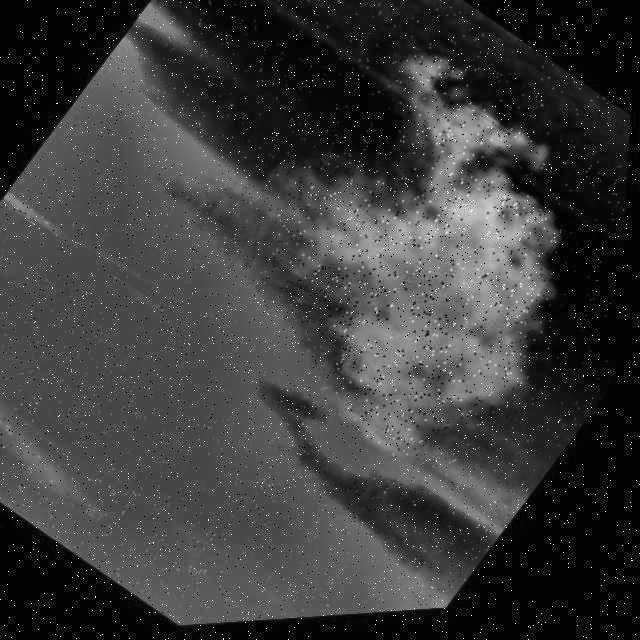Smoke: (152, 0, 639, 523)
